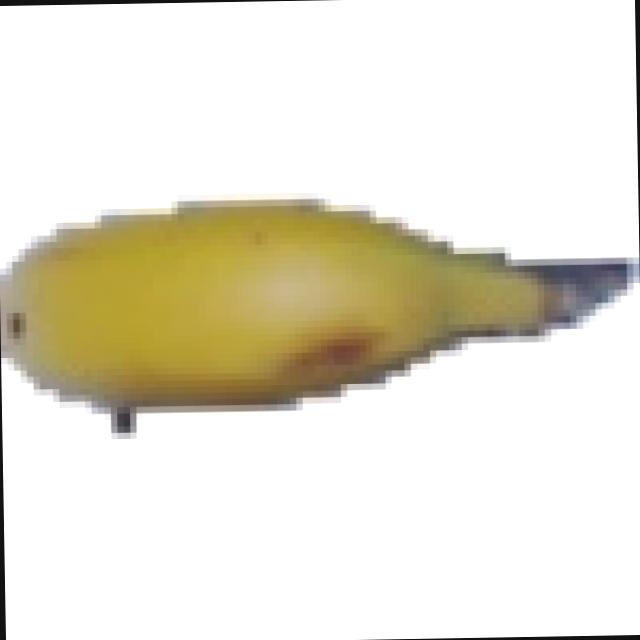banana_pacche: (4, 6, 640, 595)
